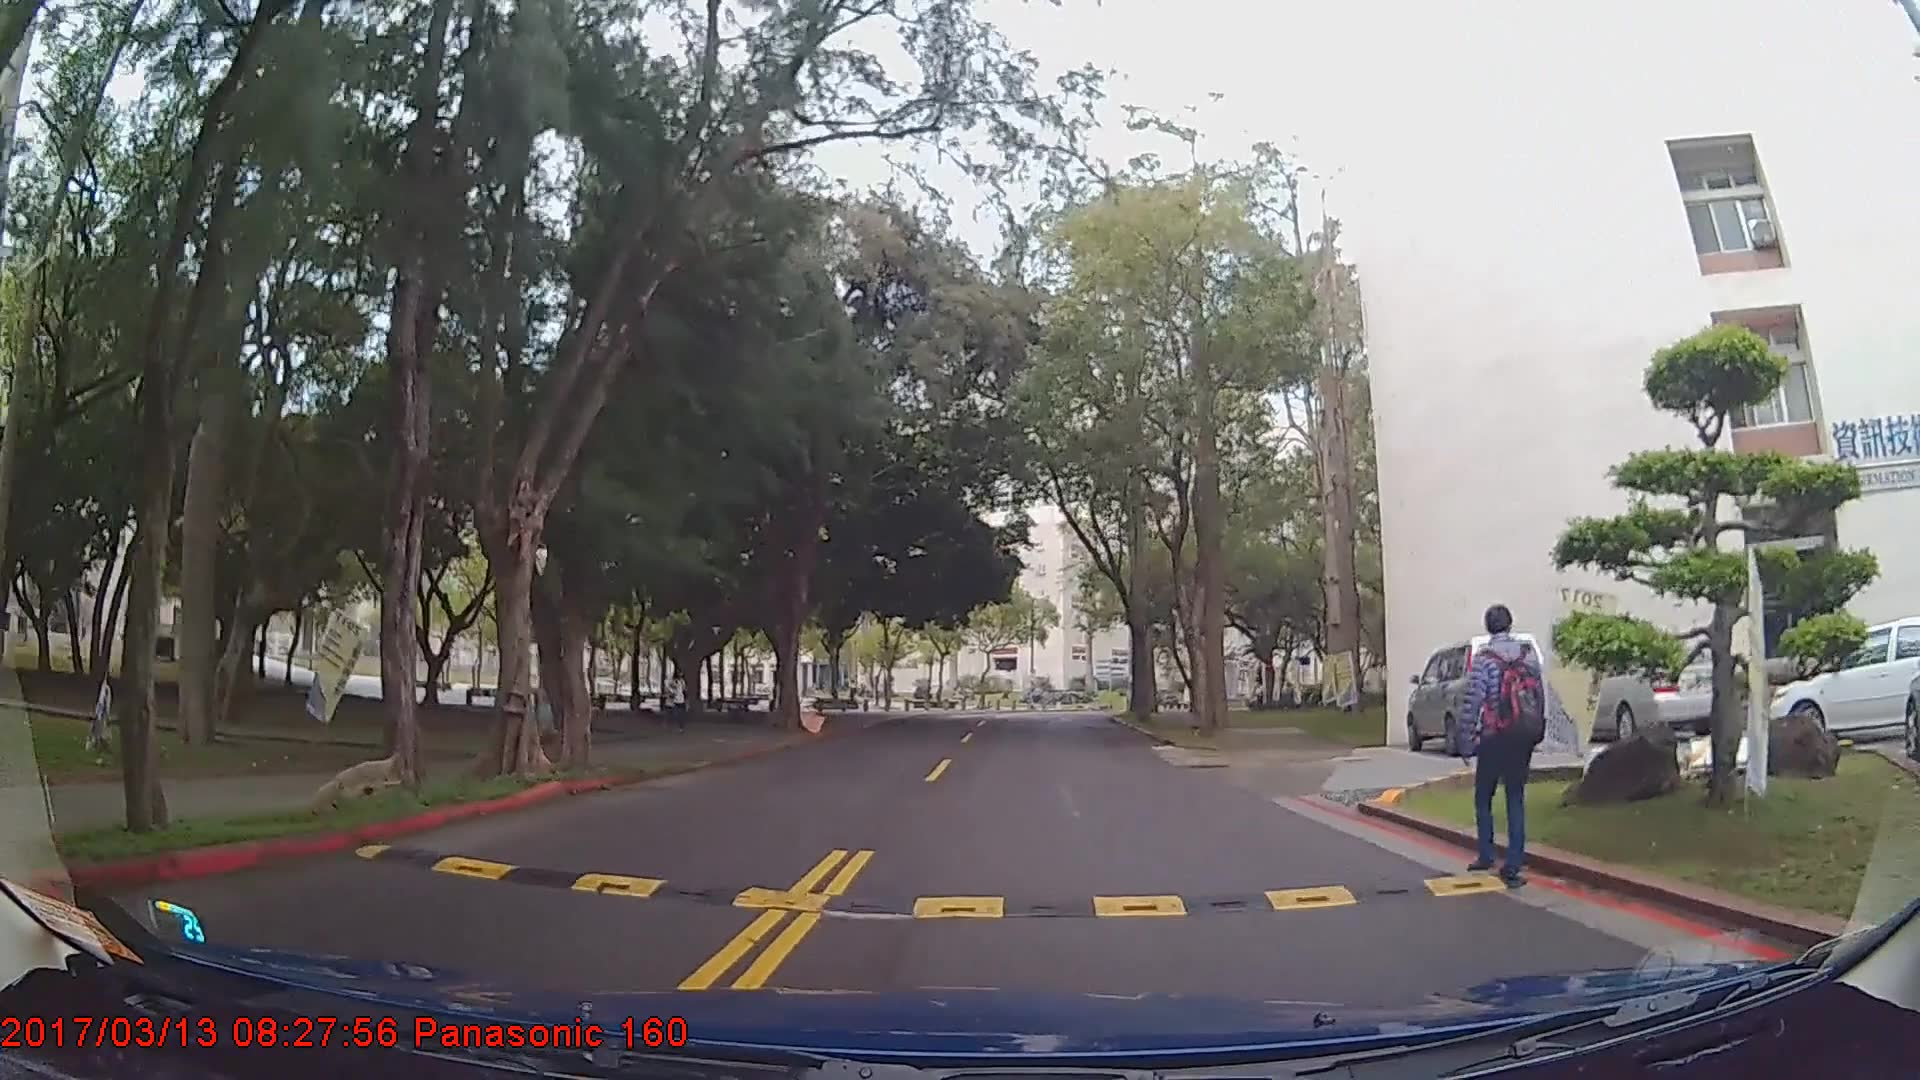pedestrian: (1461, 604, 1544, 886), (663, 667, 693, 734)
vehicle: (1763, 618, 1920, 746), (1406, 634, 1546, 753)
